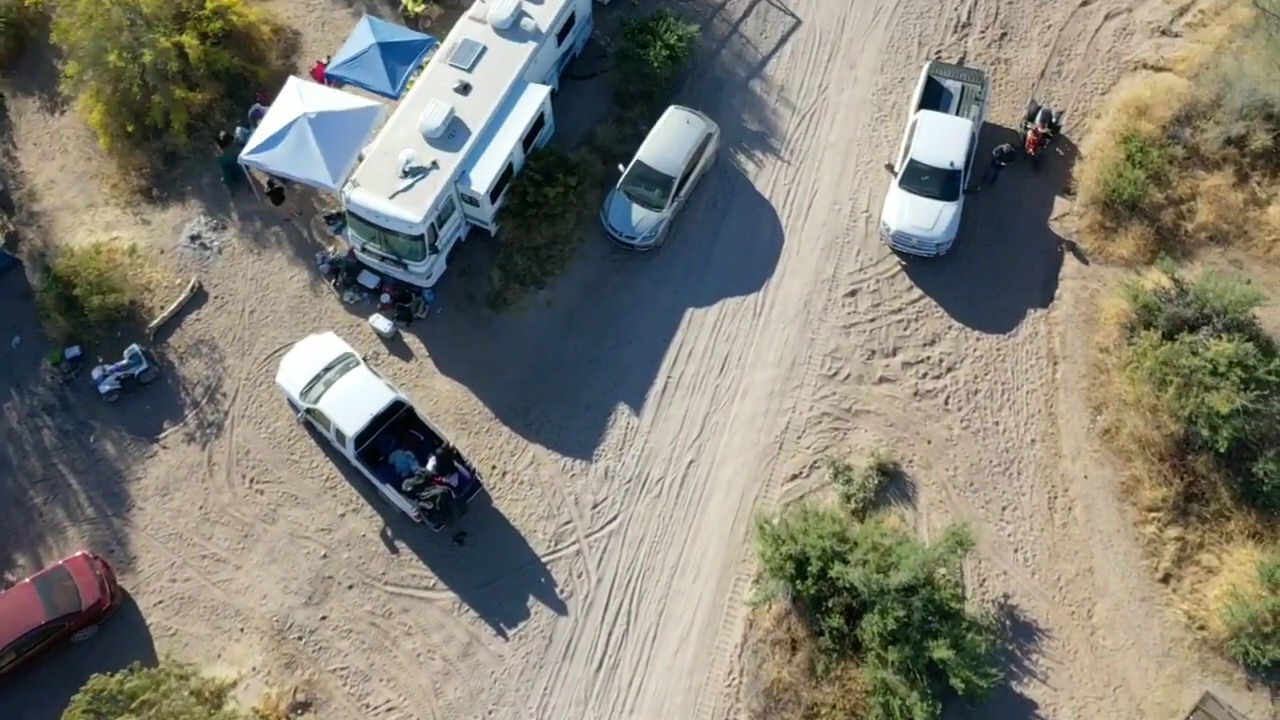araba: (597, 100, 724, 255), (1, 546, 125, 684)
insan: (979, 136, 1015, 198), (256, 174, 302, 220)
kamyonet: (268, 324, 486, 540), (873, 57, 988, 259)
otobus: (329, 3, 587, 291)
